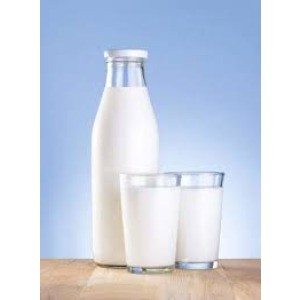milk_brain food: (124, 183, 228, 264), (93, 91, 159, 171)
